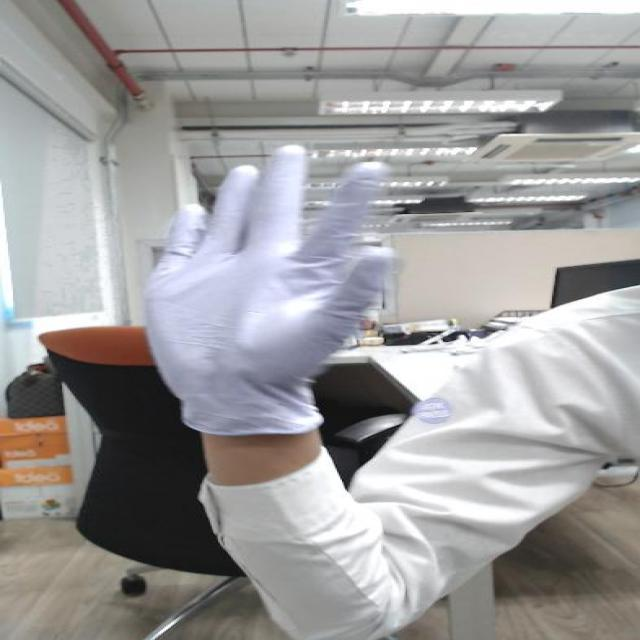with_gloves: (100, 135, 437, 415)
